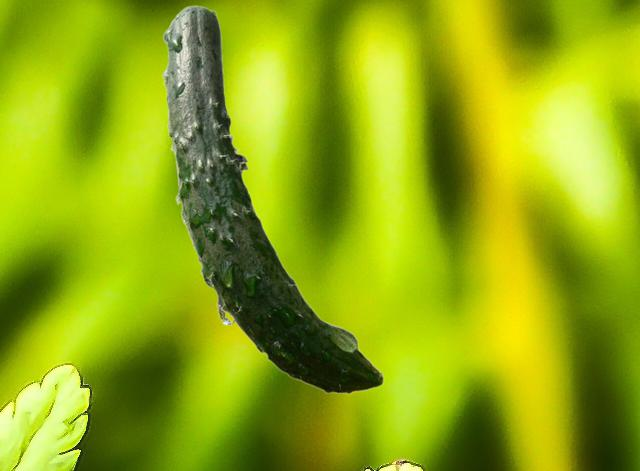cucumber: (161, 5, 383, 393)
